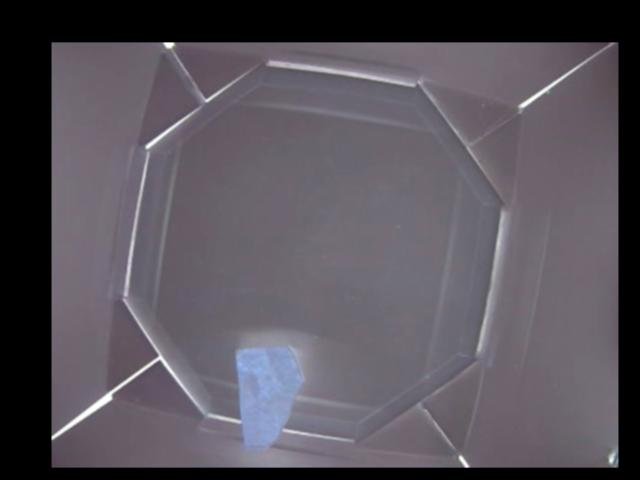China: (236, 349, 304, 450)
